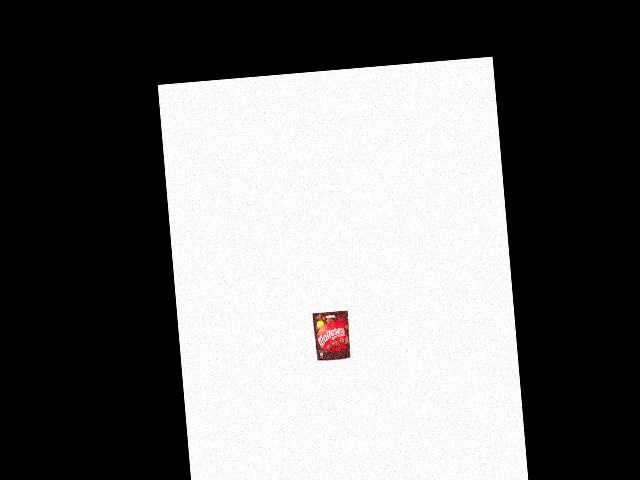chocolate: (312, 309, 352, 362)
